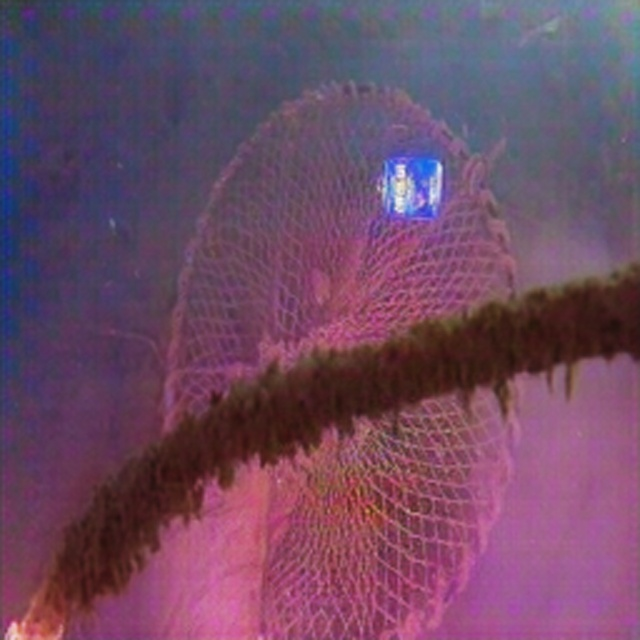mine: (160, 74, 529, 639)
